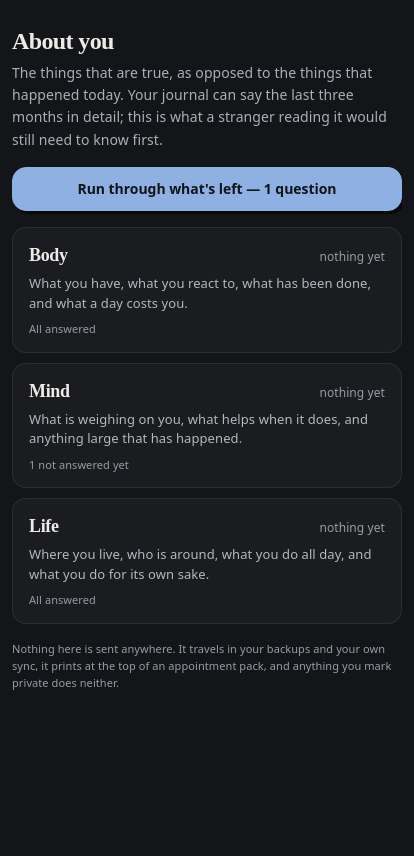
Test: the run-through › warns before a life event is typed that it starts private
This screenshot has width=414, height=856.
Click the button "Run through what's left — 1 question". click: (207, 189)
box: [12,167,402,211]
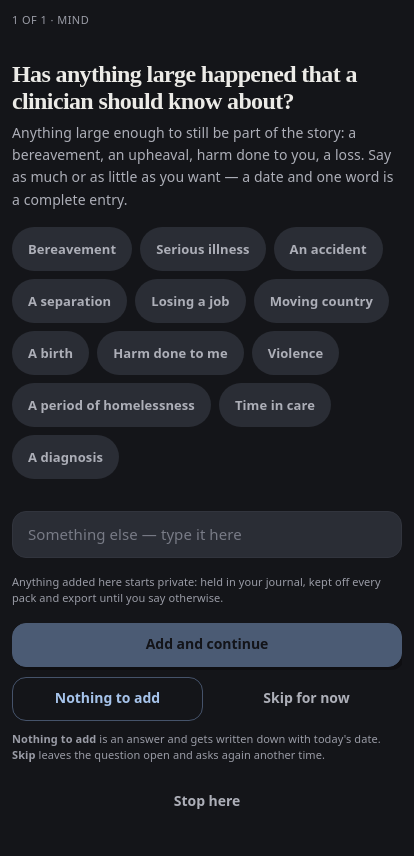
Expected: the heading "Has anything large happened that a clinician should know about?" is shown, [12,60,402,116]
Expected: the text "starts private" is shown, [12,574,381,605]
